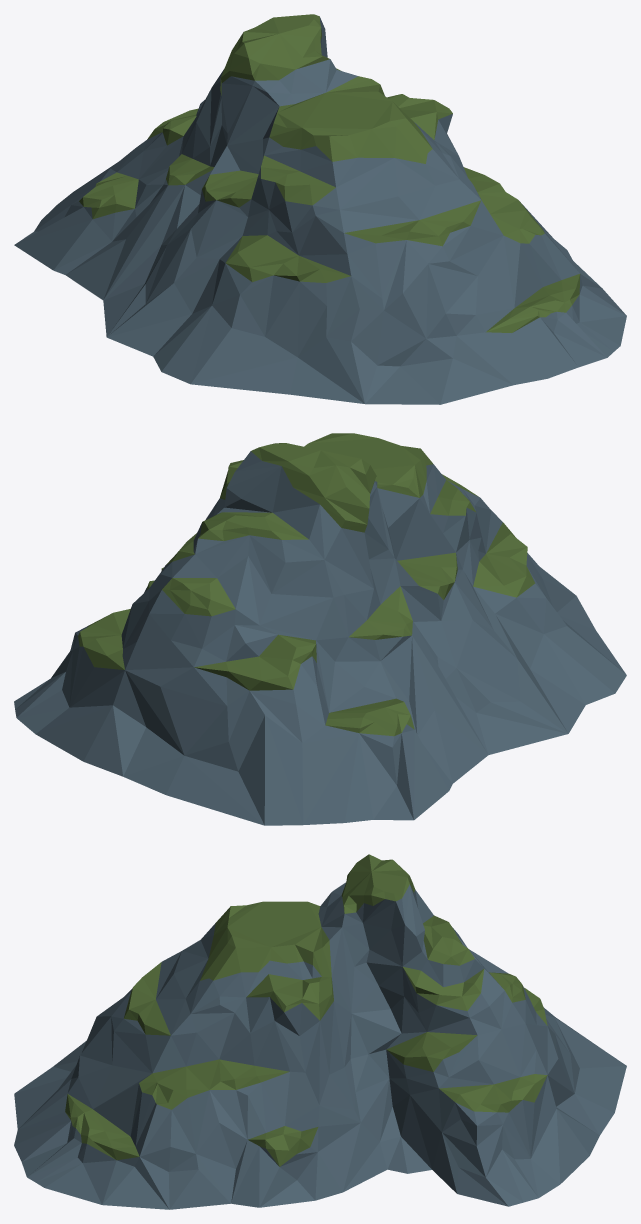
The model's file is Mountain_2 Asia.fbx.
The picture shows the model from 3 angles, top to bottom: view 1: azimuth 30°, elevation 25°; view 2: azimuth 150°, elevation 25°; view 3: azimuth 270°, elevation 25°; orthographic projection. The views are drawn at different scales.
Parts seen in each view (by area): view 1: Mountain_2; view 2: Mountain_2; view 3: Mountain_2.
Part boxes in pixels (left/top/right/bottom): Mountain_2: left=14, top=14, right=626, bottom=404; Mountain_2: left=14, top=433, right=626, bottom=825; Mountain_2: left=14, top=854, right=626, bottom=1209.
Bounding box in the file's own units: 51.34 × 27.21 × 65.29.
